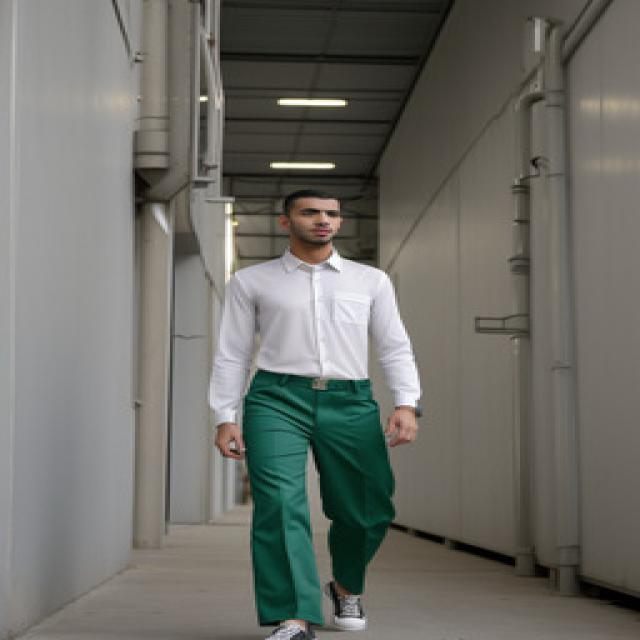Ai human 2: (193, 178, 445, 640)
